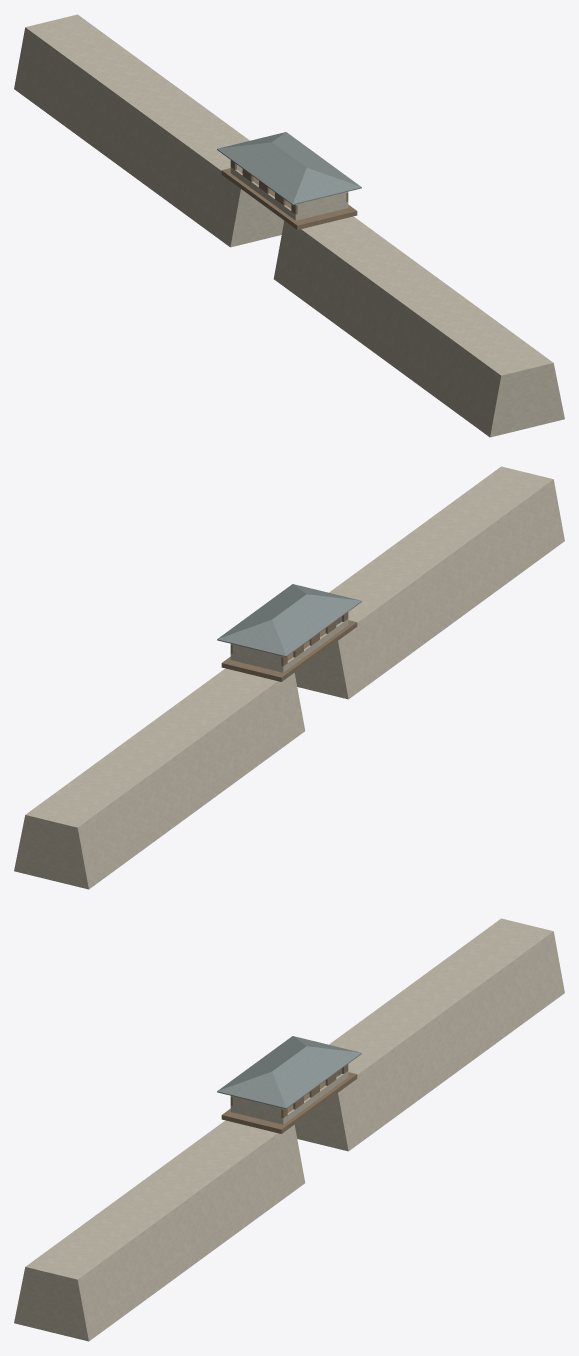
Rendered from guangyang-C-form.glb.
3 renders of one model, top to bottom at view 1: azimuth 30°, elevation 25°; view 2: azimuth 150°, elevation 25°; view 3: azimuth 330°, elevation 25°, orthographic.
Parts seen in each view (by area): view 1: C_earth_wall_-1, C_earth_wall_1, C_single_hip_roof_LOD_massing, C_gate_upper_deck, C_room_end_-1, C_window_sill_-1; view 2: C_earth_wall_1, C_earth_wall_-1, C_single_hip_roof_LOD_massing, C_gate_upper_deck, C_room_end_1, C_window_sill_-1; view 3: C_earth_wall_-1, C_earth_wall_1, C_single_hip_roof_LOD_massing, C_gate_upper_deck, C_room_end_-1, C_window_sill_1.
Part boxes in pixels (x1=…): C_earth_wall_-1: x1=273, y1=216, x2=564, y2=437; C_earth_wall_1: x1=14, y1=14, x2=284, y2=247; C_single_hip_roof_LOD_massing: x1=217, y1=132, x2=361, y2=204; C_gate_upper_deck: x1=221, y1=168, x2=357, y2=229; C_room_end_-1: x1=297, y1=192, x2=346, y2=219; C_window_sill_-1: x1=230, y1=167, x2=297, y2=220; C_earth_wall_1: x1=14, y1=668, x2=305, y2=889; C_earth_wall_-1: x1=294, y1=466, x2=564, y2=699; C_single_hip_roof_LOD_massing: x1=217, y1=584, x2=361, y2=656; C_gate_upper_deck: x1=221, y1=620, x2=357, y2=681; C_room_end_1: x1=232, y1=644, x2=281, y2=671; C_window_sill_-1: x1=281, y1=619, x2=348, y2=672; C_earth_wall_-1: x1=14, y1=1120, x2=305, y2=1341; C_earth_wall_1: x1=294, y1=918, x2=564, y2=1151; C_single_hip_roof_LOD_massing: x1=217, y1=1036, x2=361, y2=1108; C_gate_upper_deck: x1=221, y1=1072, x2=357, y2=1133; C_room_end_-1: x1=232, y1=1096, x2=281, y2=1123; C_window_sill_1: x1=281, y1=1071, x2=348, y2=1124.
Bounding box in the file's own units: 8 × 10.13 × 88.
Materials: 3 (3 with a texture image).
